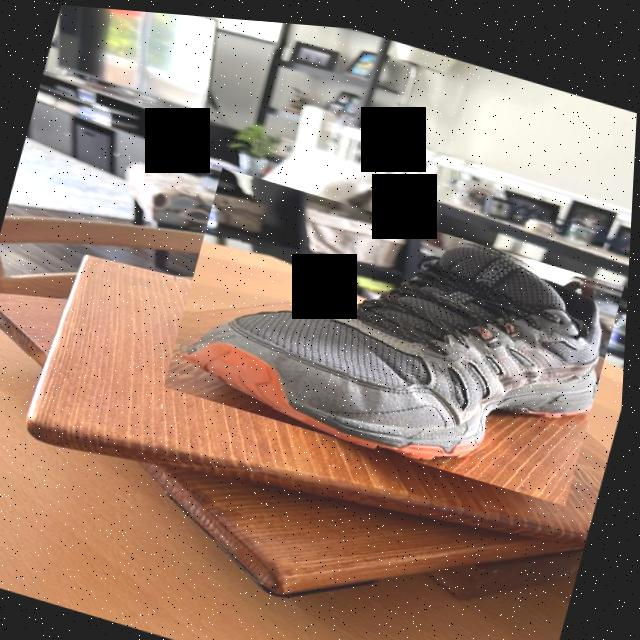shoe: (164, 160, 629, 498)
